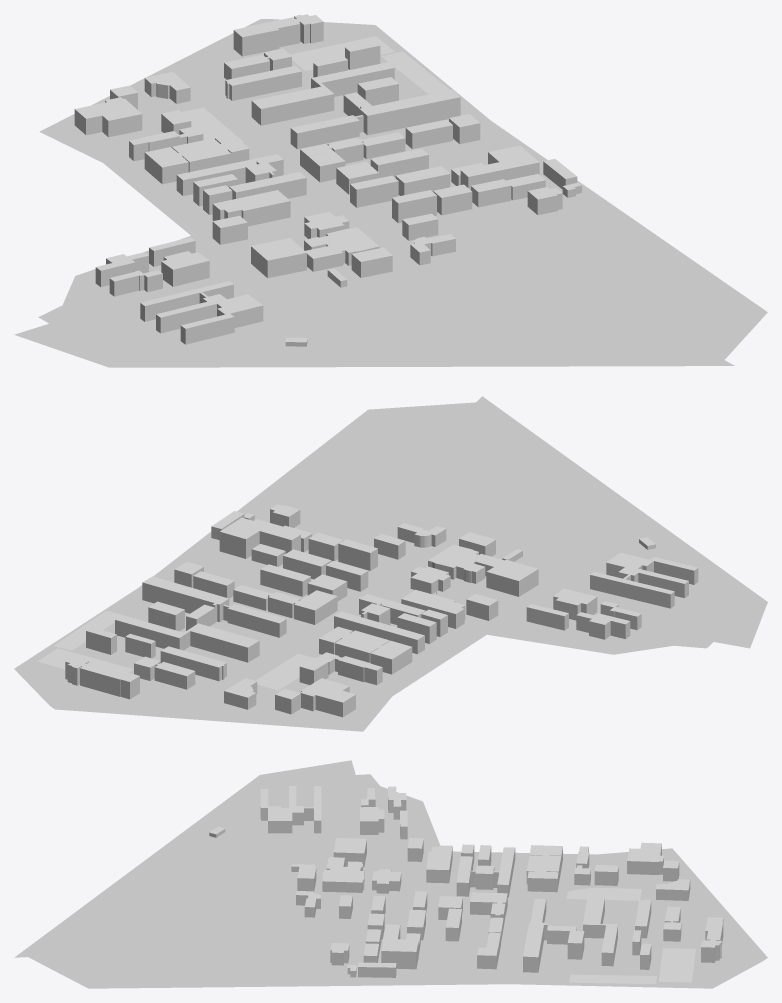
Rendered from saitama_univ.glb.
3 renders of one model, top to bottom at view 1: azimuth 30°, elevation 25°; view 2: azimuth 150°, elevation 25°; view 3: azimuth 270°, elevation 25°, orthographic. The views are drawn at different scales.
Parts seen in each view (by area): view 1: 平面, map_2.osm_buildings, 平面.001, 平面.002, map.osm_forest; view 2: 平面, map_2.osm_buildings, map.osm_forest, 平面.002, 平面.001; view 3: 平面, map_2.osm_buildings, 平面.001, map.osm_forest, 平面.002.
Boxes of the visible parts, box(x1,y1,x2,y2) form: 平面: box(14, 19, 767, 367); map_2.osm_buildings: box(74, 14, 581, 346); 平面.001: box(290, 36, 394, 70); 平面.002: box(381, 51, 449, 94); map.osm_forest: box(181, 107, 243, 142); 平面: box(14, 396, 767, 731); map_2.osm_buildings: box(65, 504, 698, 717); map.osm_forest: box(255, 653, 312, 690); 平面.002: box(54, 610, 122, 650); 平面.001: box(37, 648, 133, 672); 平面: box(14, 760, 767, 988); map_2.osm_buildings: box(209, 786, 723, 977); 平面.001: box(659, 948, 695, 982); map.osm_forest: box(566, 888, 641, 900); 平面.002: box(569, 974, 656, 984).
Size of the model in its own units: 623 by 26.22 by 870.
Materials: 8 (3 with a texture image).
